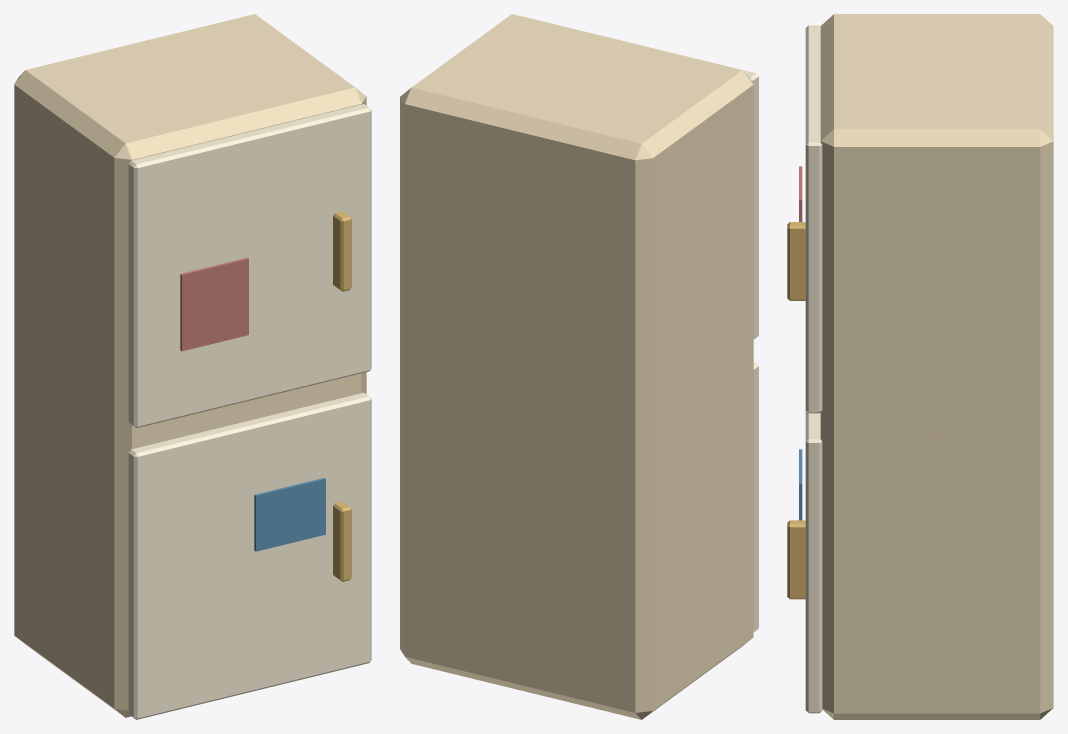
The model's file is SM_CH_Paper_Fridge.fbx.
3 renders of one model, left to right at view 1: azimuth 30°, elevation 25°; view 2: azimuth 150°, elevation 25°; view 3: azimuth 270°, elevation 25°, orthographic. The views are drawn at different scales.
Visible parts, largest first — view 1: SM_CH_Paper_Fridge; view 2: SM_CH_Paper_Fridge; view 3: SM_CH_Paper_Fridge.
Part boxes in pixels (<box>): SM_CH_Paper_Fridge: <box>14,14,371,719</box>; SM_CH_Paper_Fridge: <box>400,14,758,719</box>; SM_CH_Paper_Fridge: <box>787,14,1053,719</box>.
Bounding box in the file's own units: 9000 × 8000 × 19600.
